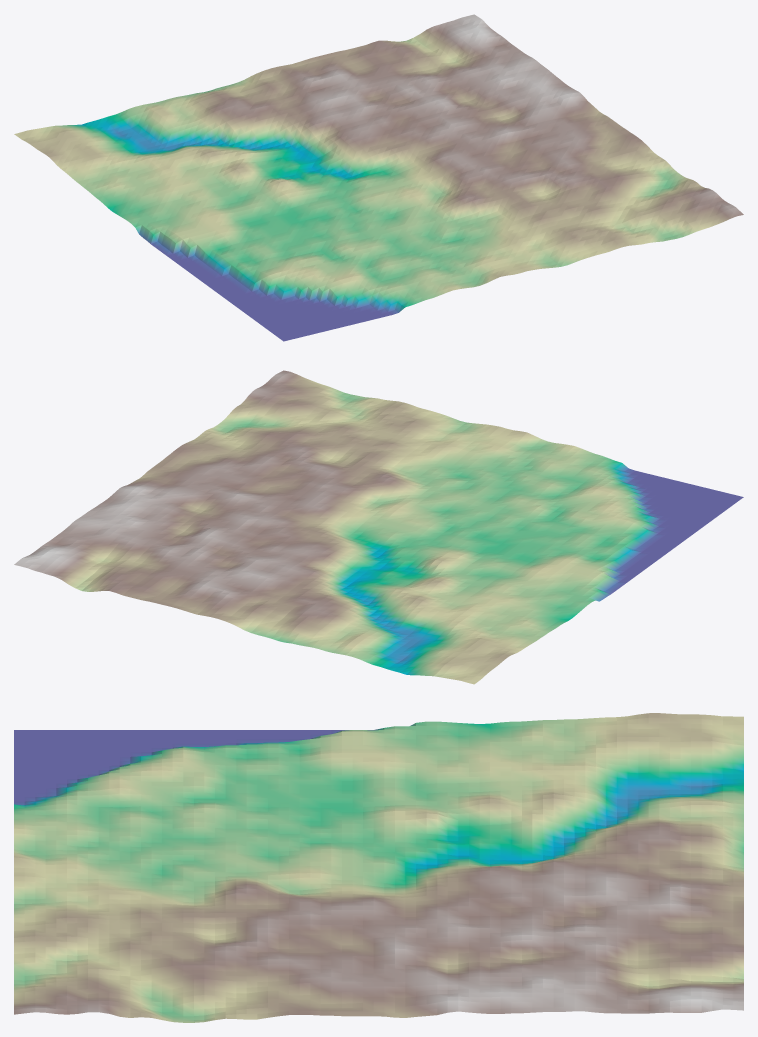
The model's file is 003719_terrain_only.glb.
3 views of the same model, one above another, from view 1: azimuth 30°, elevation 25°; view 2: azimuth 150°, elevation 25°; view 3: azimuth 270°, elevation 25° (orthographic). The views are drawn at different scales.
Visible parts, largest first — view 1: terrain; view 2: terrain; view 3: terrain.
Boxes of the visible parts, x1,y1,x2,y2 form: terrain: [14, 14, 743, 341]; terrain: [14, 370, 743, 684]; terrain: [14, 713, 743, 1022].
Size of the model in its own units: 0.0183 by 0.000728 by 0.0186.
